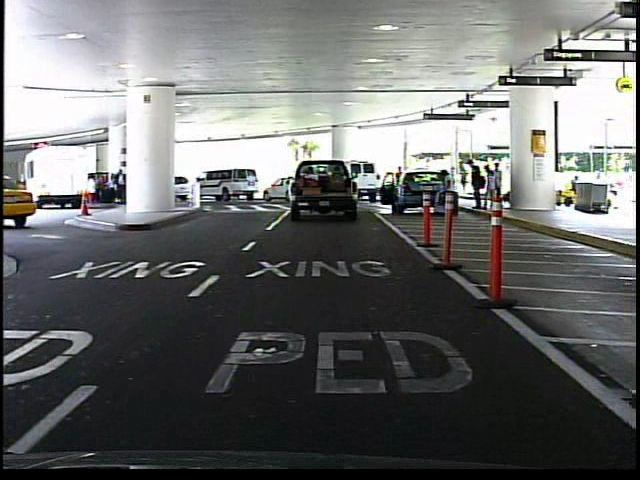person: (393, 164, 409, 204), (439, 164, 458, 195)
